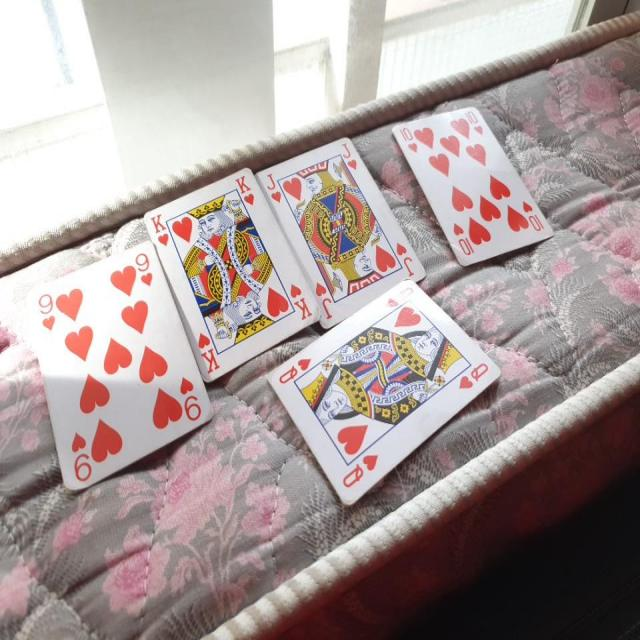10 Hearts: (389, 100, 552, 268)
9 Hearts: (35, 232, 214, 511)
J Hearts: (256, 130, 429, 330)
K Hearts: (143, 156, 320, 385)
Q Hearts: (271, 276, 498, 508)
